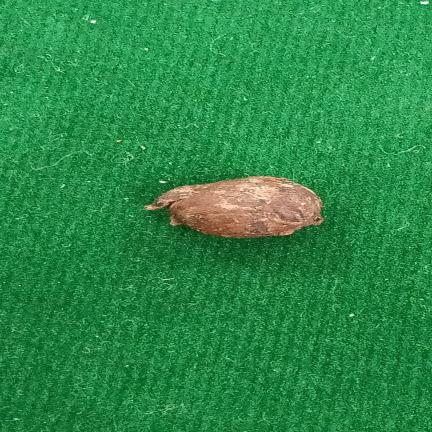full-black: (145, 176, 323, 238)
